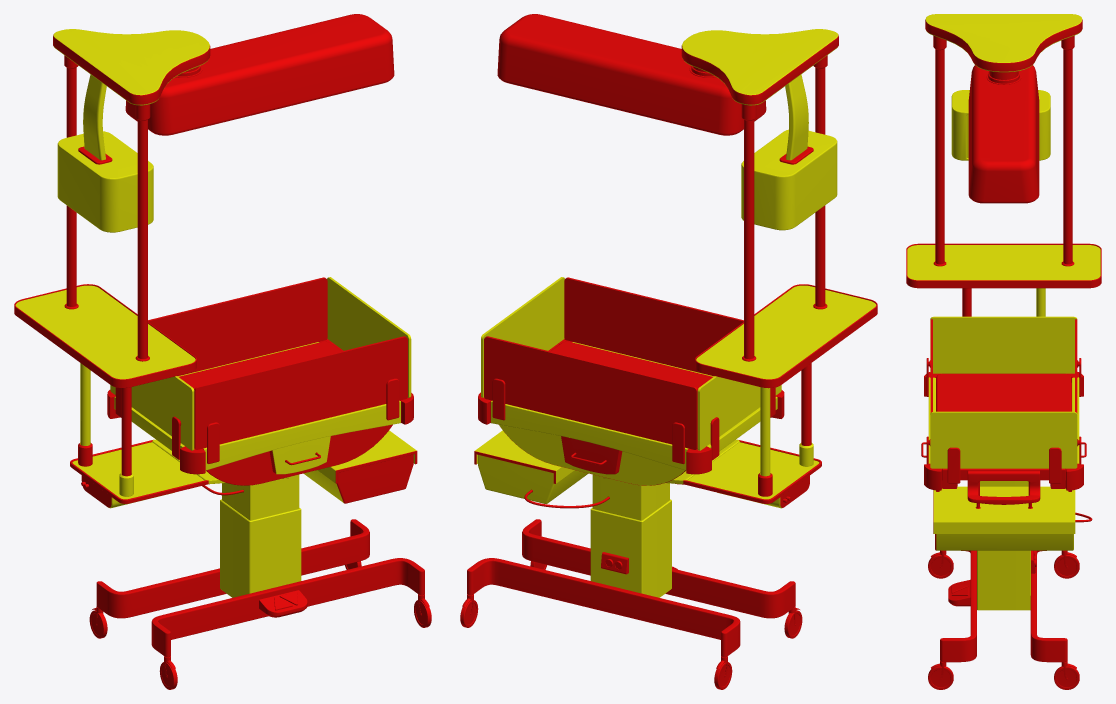
The model's file is Equipment_6.fbx.
3 renders of one model, left to right at view 1: azimuth 30°, elevation 25°; view 2: azimuth 150°, elevation 25°; view 3: azimuth 270°, elevation 25°, orthographic. The views are drawn at different scales.
Visible parts, largest first — view 1: polySurface173; view 2: polySurface173; view 3: polySurface173.
Part boxes in pixels (bbox=[...]): polySurface173: bbox=[14, 14, 431, 689]; polySurface173: bbox=[460, 14, 877, 689]; polySurface173: bbox=[906, 14, 1101, 689].
Size of the model in its own units: 147 by 259 by 84.04.
